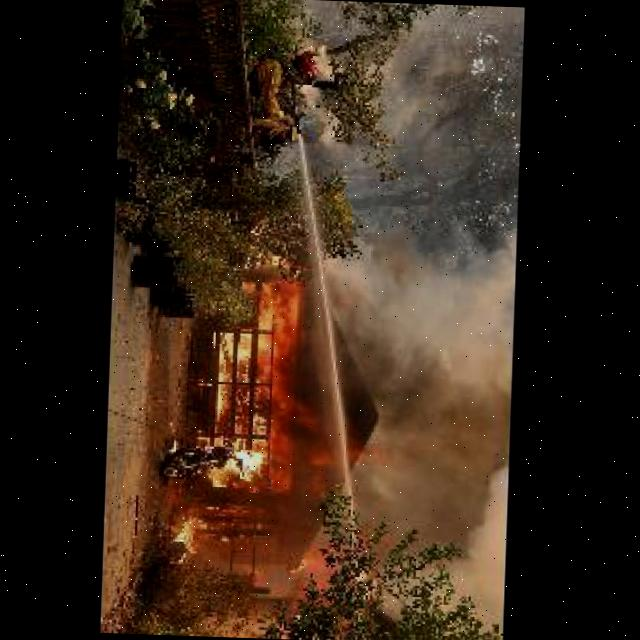fire: (162, 250, 315, 554)
